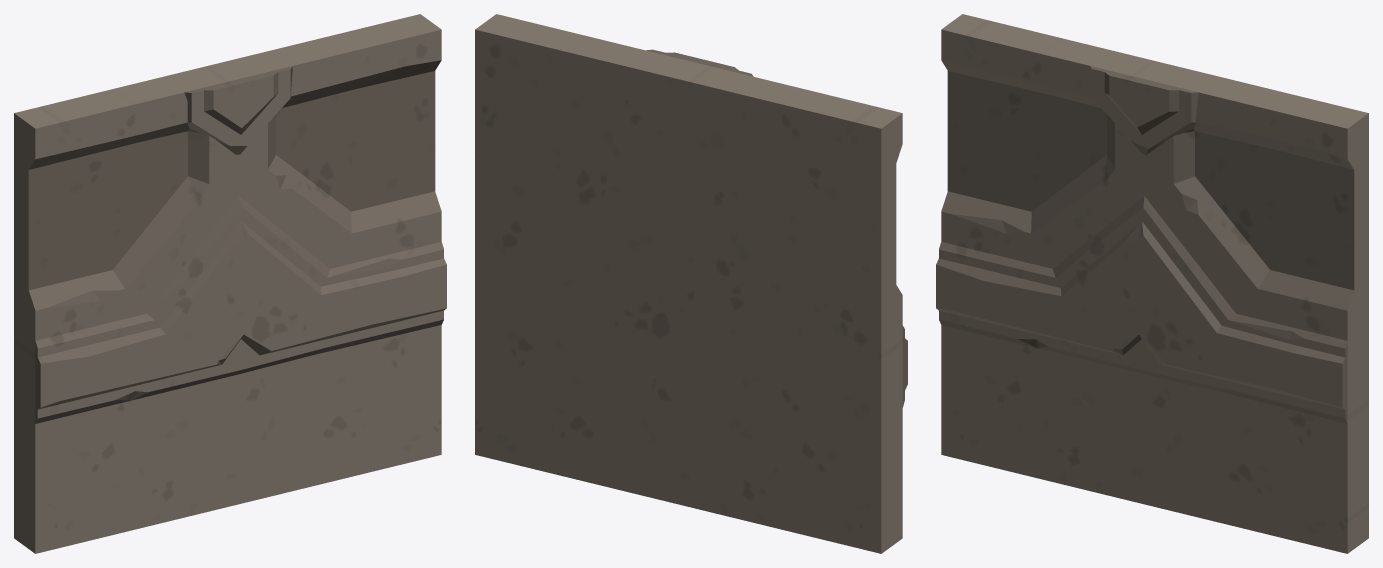
File: forge_wall_a.gltf
3 renders of one model, left to right at view 1: azimuth 30°, elevation 25°; view 2: azimuth 150°, elevation 25°; view 3: azimuth 330°, elevation 25°, orthographic.
Visible parts, largest first — view 1: forge_wall_a; view 2: forge_wall_a; view 3: forge_wall_a.
Part boxes in pixels (left/top/right/bottom): forge_wall_a: left=14, top=14, right=446, bottom=553; forge_wall_a: left=475, top=14, right=907, bottom=553; forge_wall_a: left=936, top=14, right=1368, bottom=553.
Size of the model in its own units: 5 by 5 by 0.564.
1 material, 1 textured.
